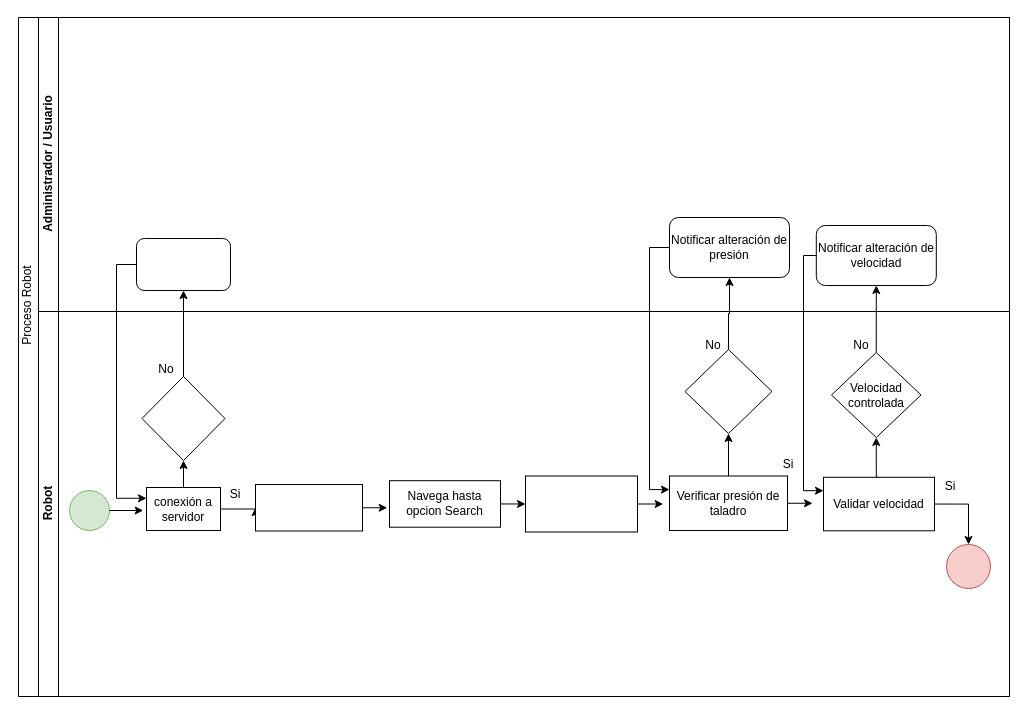
This 1027x714 diagram has some shape labels left out. Here are the shapes that lost their labels. From the top down, the centre of each, then its label:
At (x=183, y=264): "Notificar a el usuario".
At (x=728, y=391): "Presión controlada".
At (x=183, y=418): "Disponible".
At (x=308, y=507): "Logueo aplicación SCADA".
At (x=581, y=503): "Filtrar taladros a cargo del usuario".
